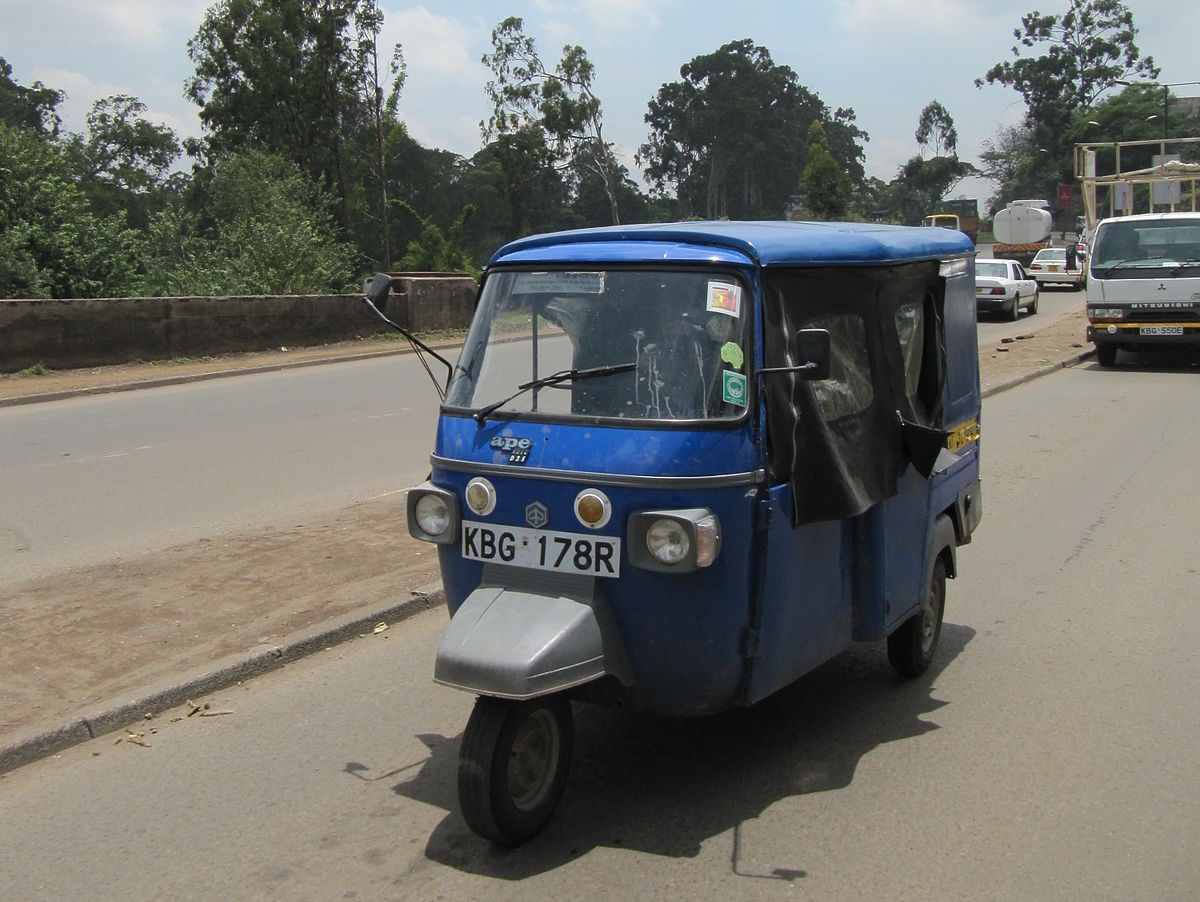number_plate: (454, 512, 625, 582)
